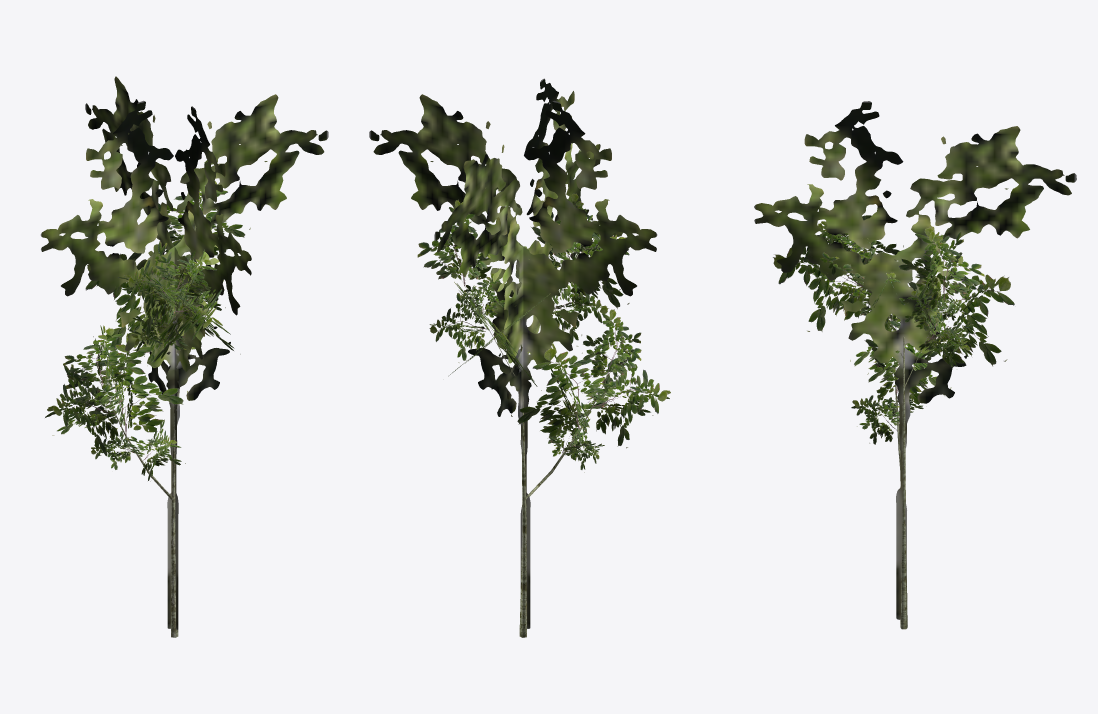
Rendered from Tree-Beech4A-mobile.fbx.
3 views of the same model, side by side, from view 1: azimuth 30°, elevation 25°; view 2: azimuth 150°, elevation 25°; view 3: azimuth 270°, elevation 25° (orthographic). The views are drawn at different scales.
Parts seen in each view (by area): view 1: Billboard-BeechA, Tree-Beech4A-mobile_LOD0; view 2: Billboard-BeechA, Tree-Beech4A-mobile_LOD0; view 3: Billboard-BeechA, Tree-Beech4A-mobile_LOD0.
Boxes of the visible parts, box(x1,y1,x2,y2) form: Billboard-BeechA: box(40, 76, 328, 629); Tree-Beech4A-mobile_LOD0: box(45, 180, 250, 637); Billboard-BeechA: box(369, 78, 657, 628); Tree-Beech4A-mobile_LOD0: box(417, 193, 670, 637); Billboard-BeechA: box(754, 101, 1076, 620); Tree-Beech4A-mobile_LOD0: box(773, 215, 1014, 629).
Size of what is drawn, in the model's own units: 676 by 1116 by 676.
